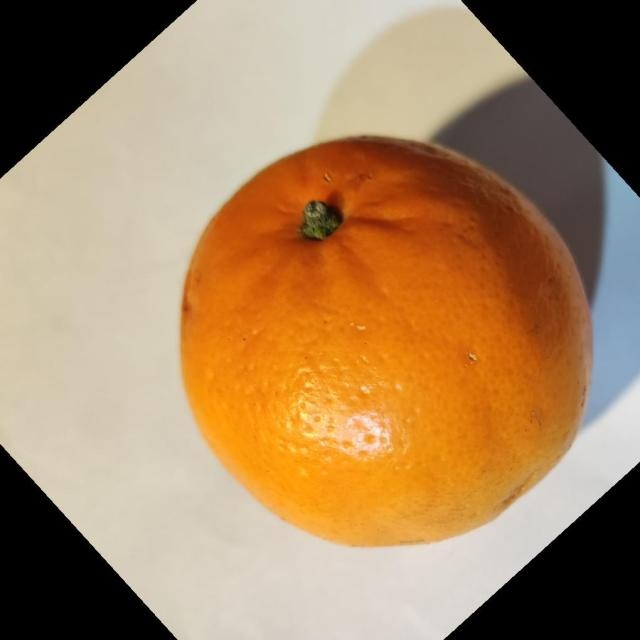agrume: (178, 132, 594, 548)
